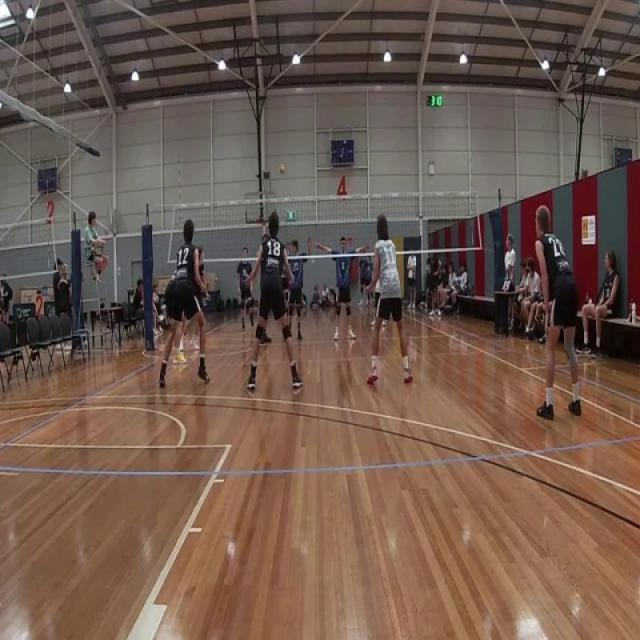volleyball: (279, 163, 285, 174)
